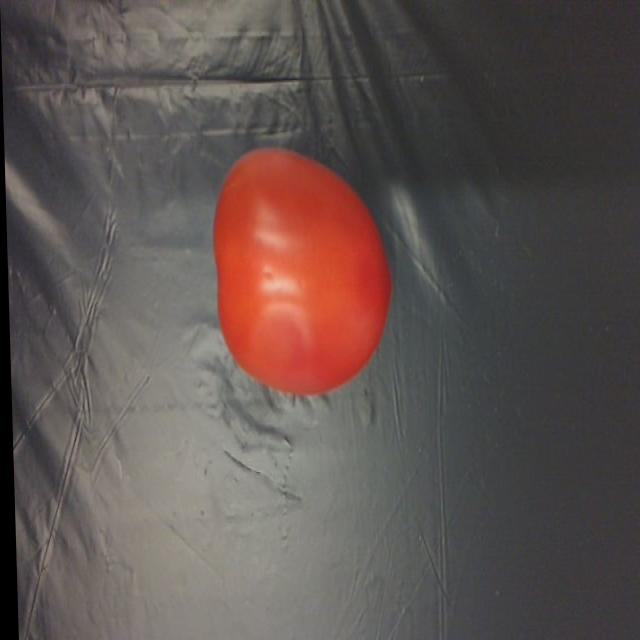kirmizi: (207, 116, 404, 417)
